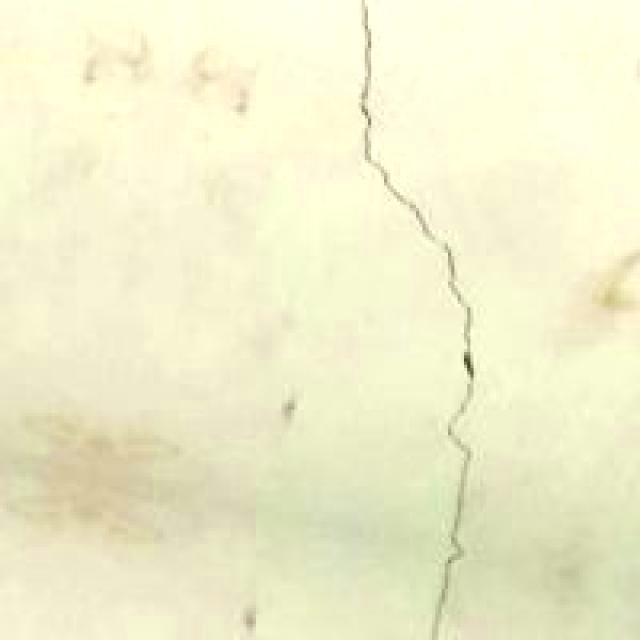minor crack: (433, 232, 473, 391)
moderate crack: (6, 407, 186, 542), (245, 375, 298, 640), (378, 178, 456, 277), (184, 45, 256, 114), (82, 26, 150, 86), (587, 246, 639, 307)
severe crack: (356, 1, 373, 108)
